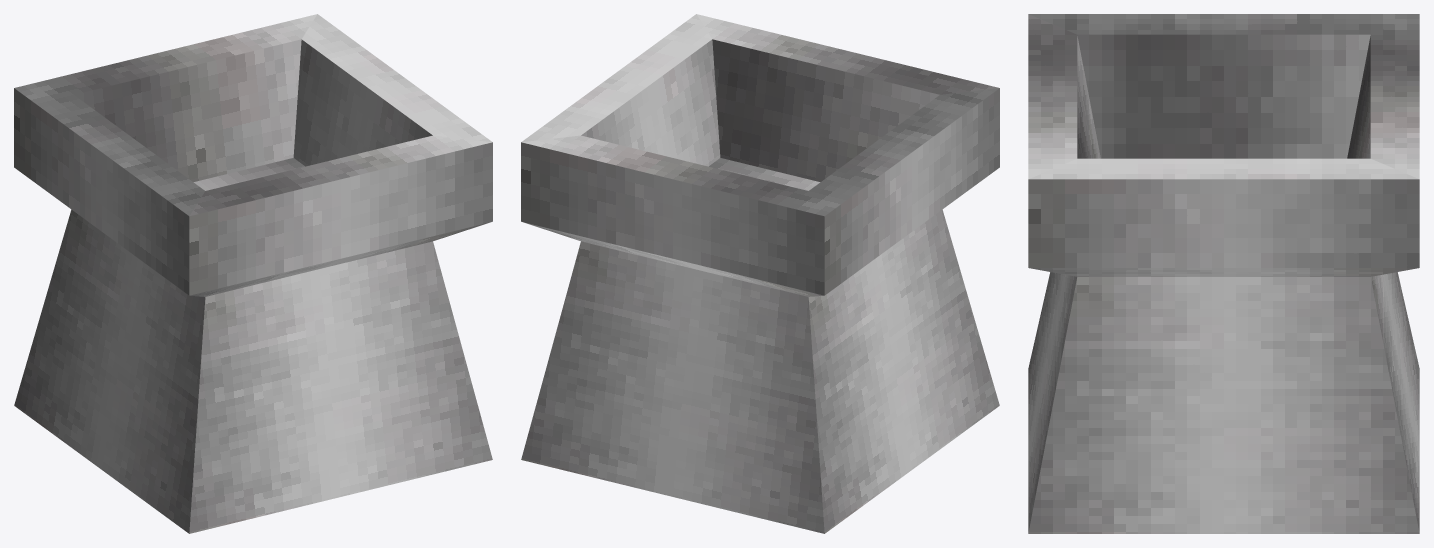
File: Blood Altar.fbx
The picture shows the model from 3 angles, left to right: view 1: azimuth 30°, elevation 25°; view 2: azimuth 150°, elevation 25°; view 3: azimuth 270°, elevation 25°; orthographic projection. The views are drawn at different scales.
Parts seen in each view (by area): view 1: Blood Altar; view 2: Blood Altar; view 3: Blood Altar.
Boxes of the visible parts, x1,y1,x2,y2 form: Blood Altar: (14, 14, 492, 533); Blood Altar: (521, 14, 999, 533); Blood Altar: (1028, 14, 1419, 533).
Bounding box in the file's own units: 37.5 × 37.5 × 37.5.
1 material, 1 textured.
